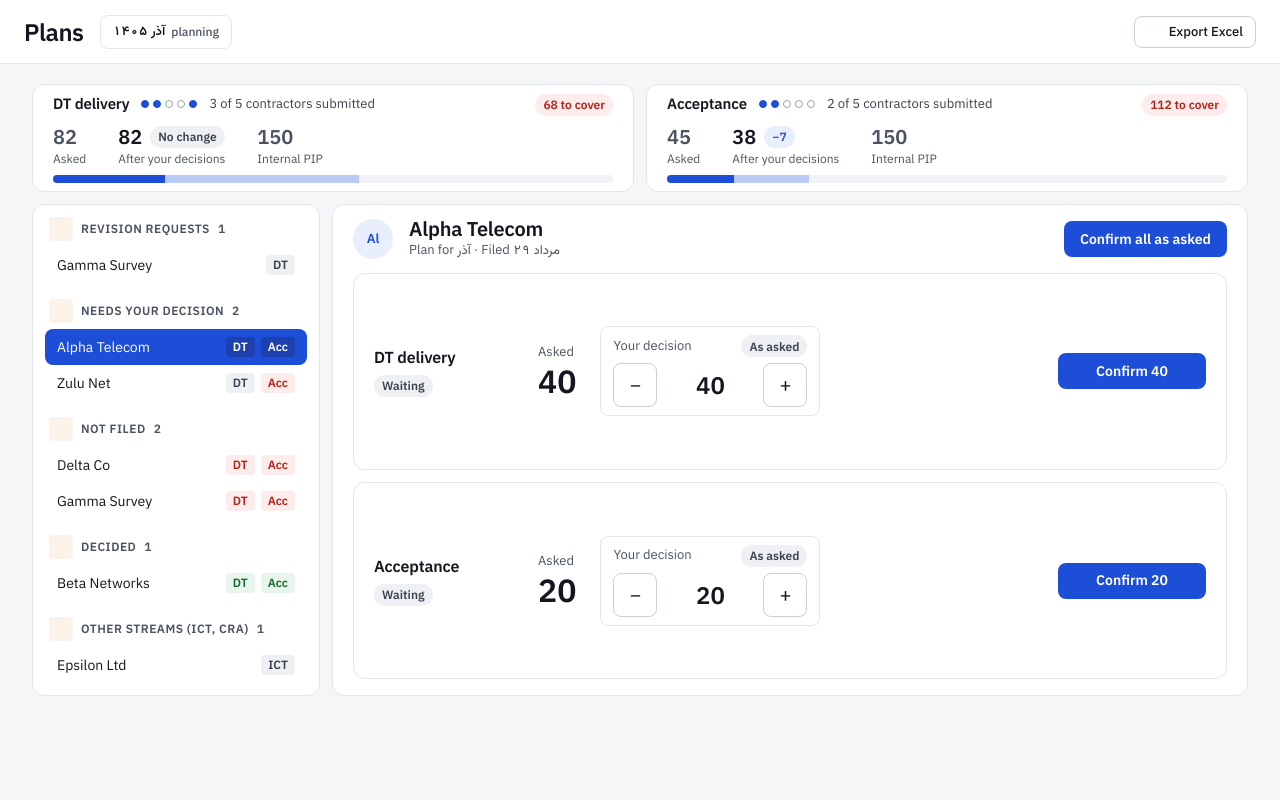
Test: Plans › recomputes the bar as a decision moves
Click the button named "Decrease". click: (635, 386)
box: [613,364,657,408]
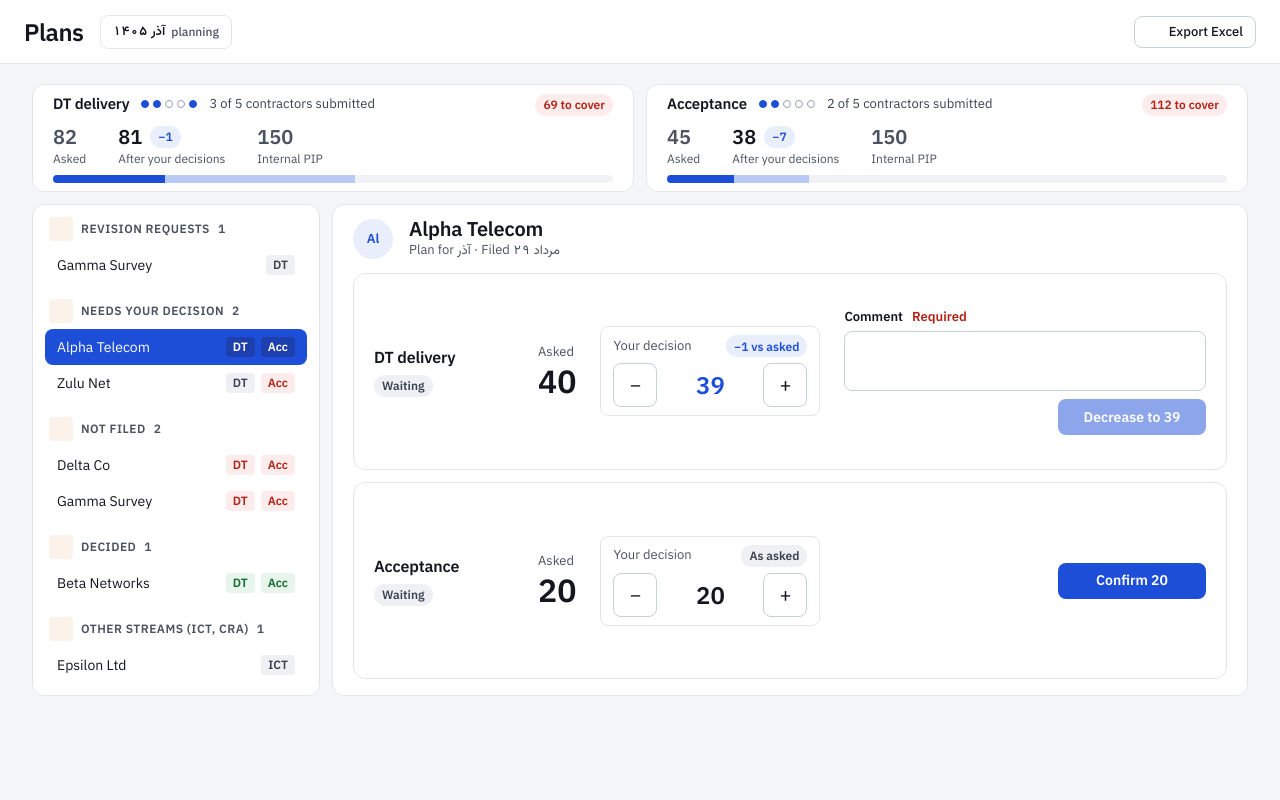
Click the button named "Decrease". click: (635, 386)
box: [613,364,657,408]
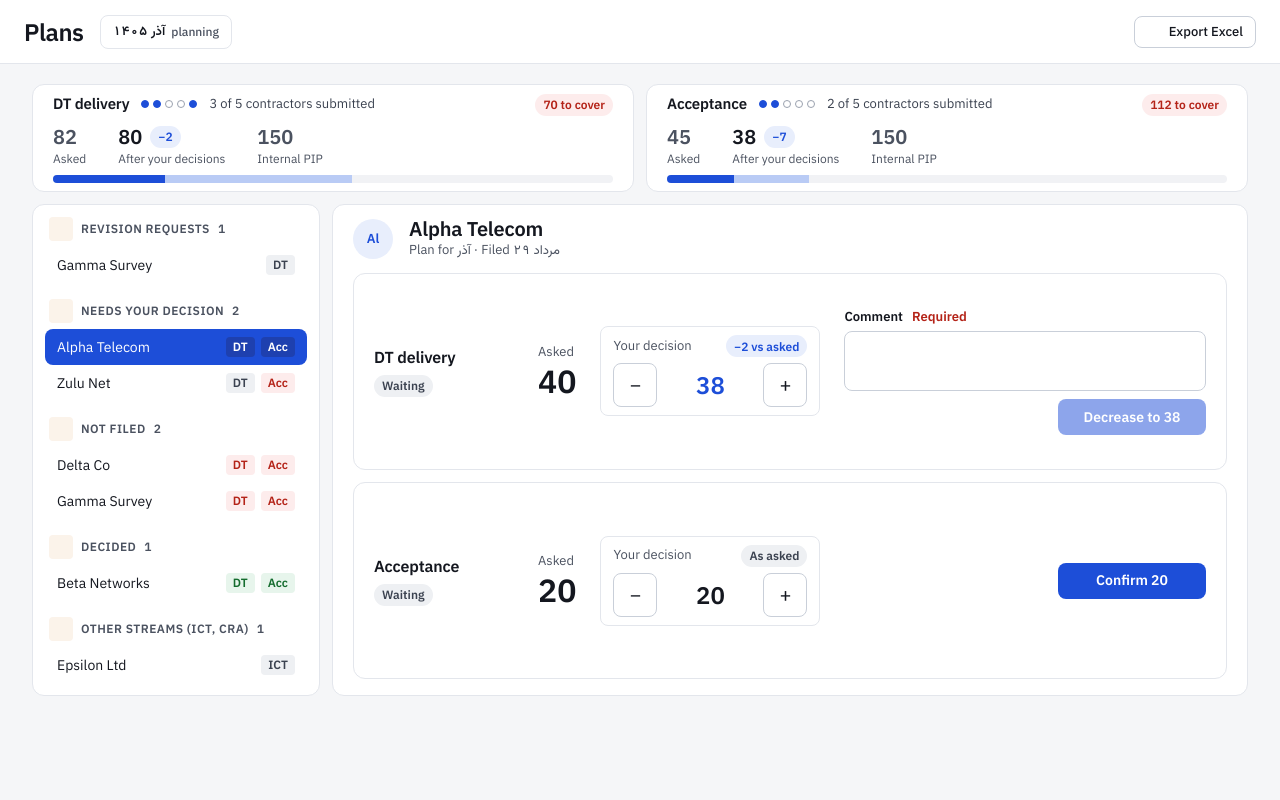
Click the button named "Decrease". click: (635, 386)
box: [613,364,657,408]
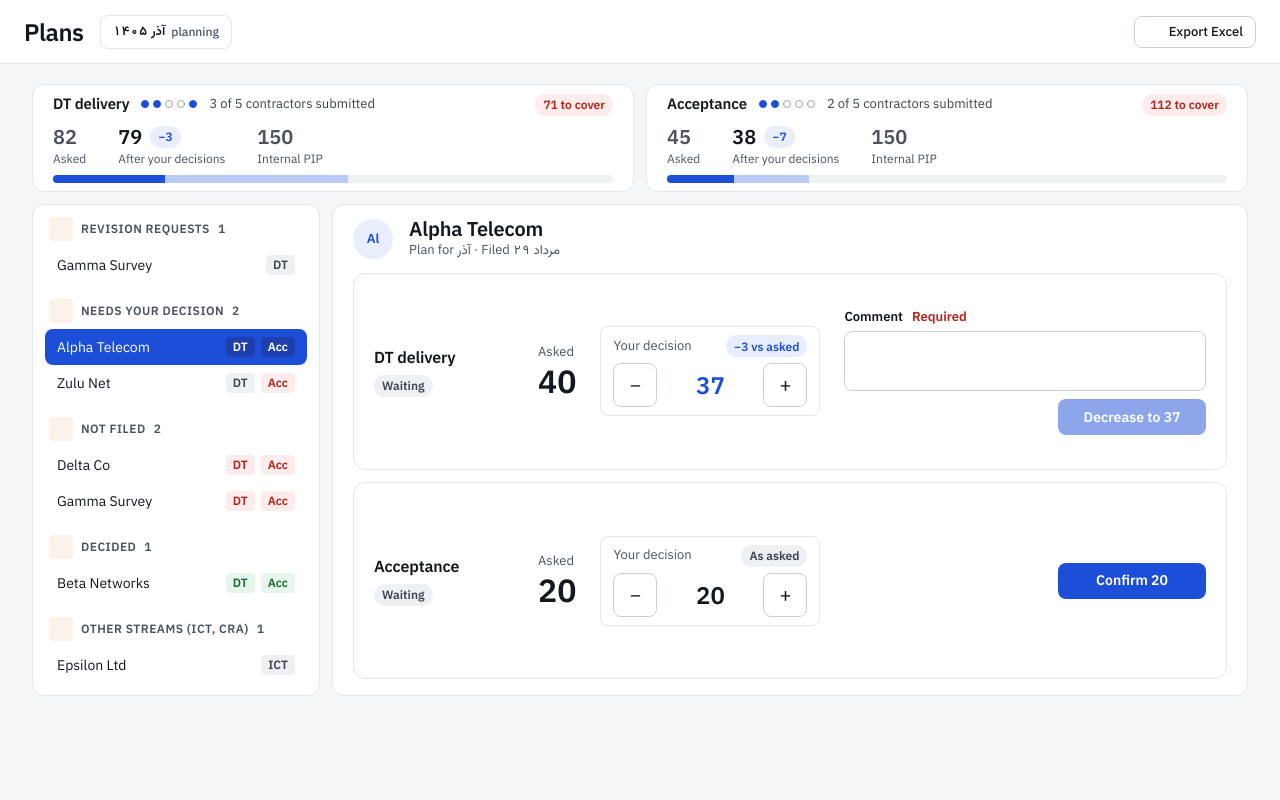
Click the button named "Decrease". click: (635, 386)
box: [613,364,657,408]
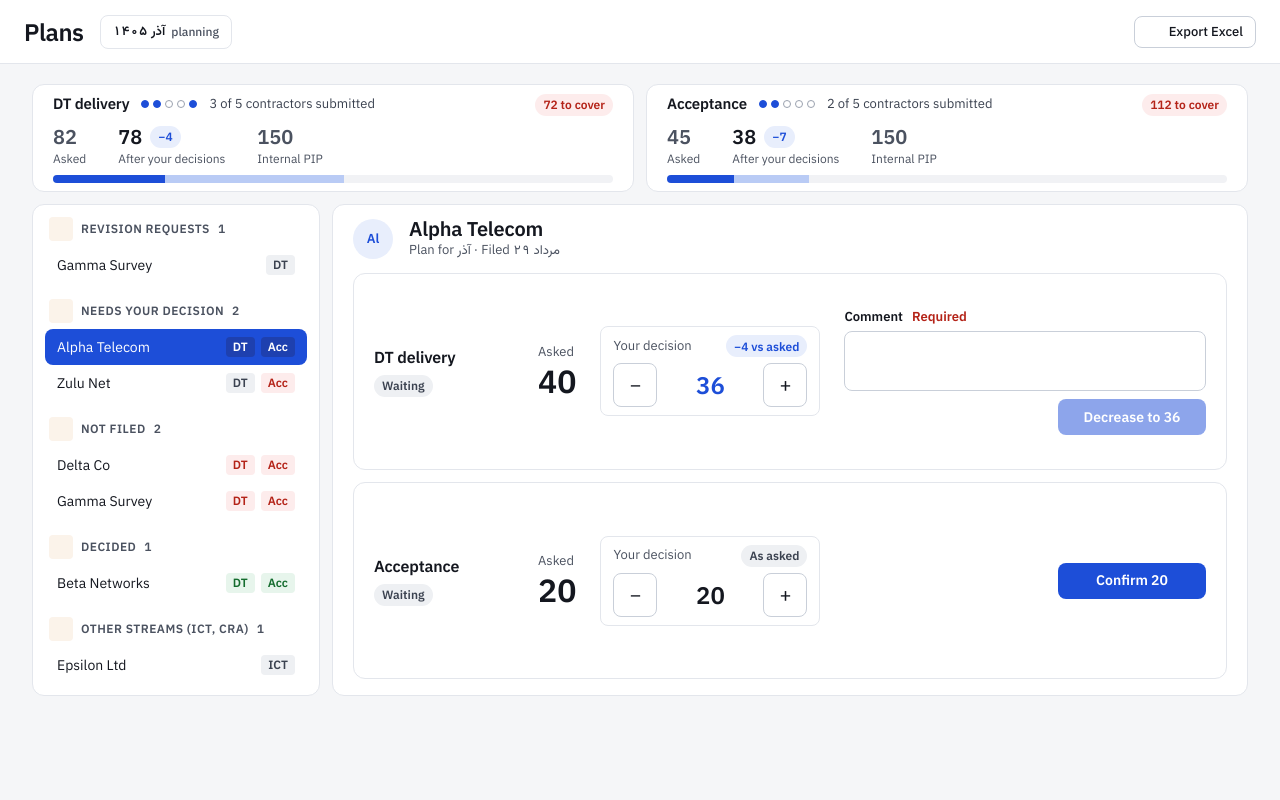
Click the button named "Decrease". click: (635, 386)
box: [613,364,657,408]
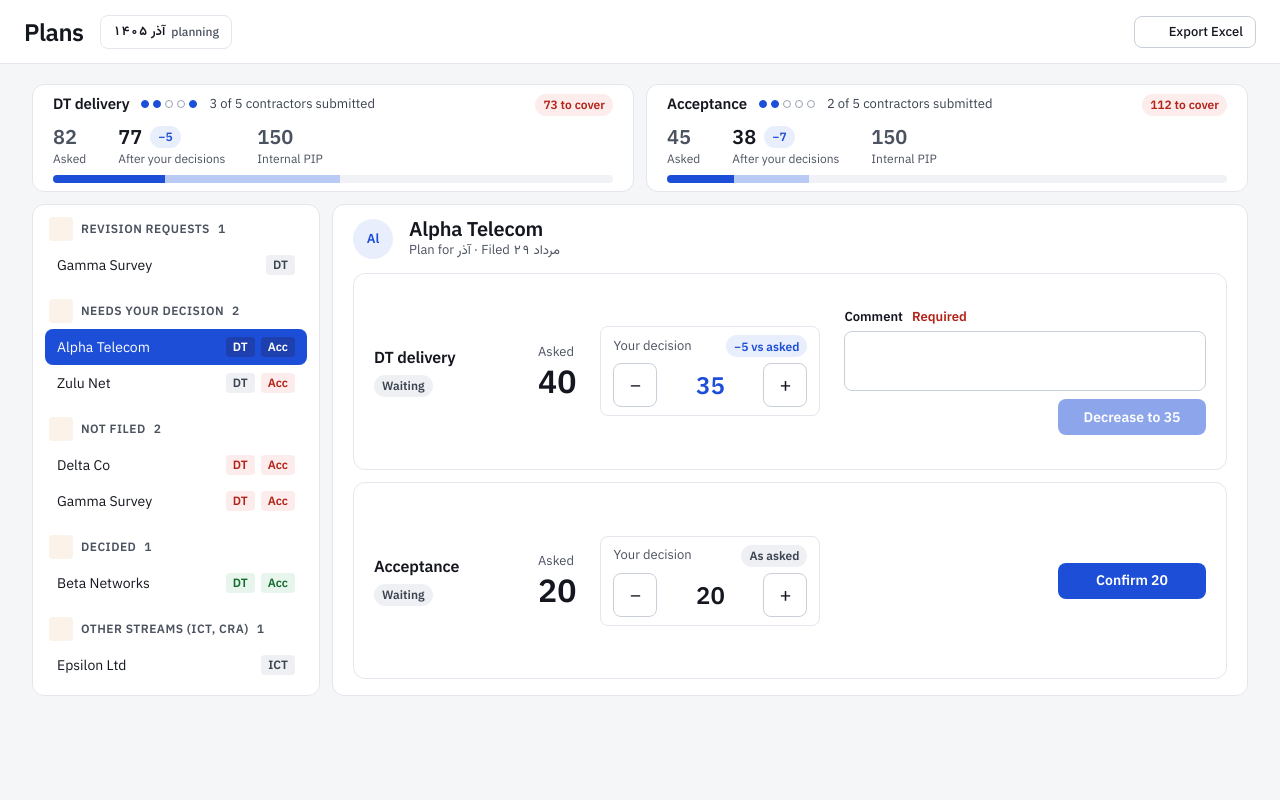
Check: the message named "DT delivery, Alpha Telecom" reads "35", box [696,370,725,402]
